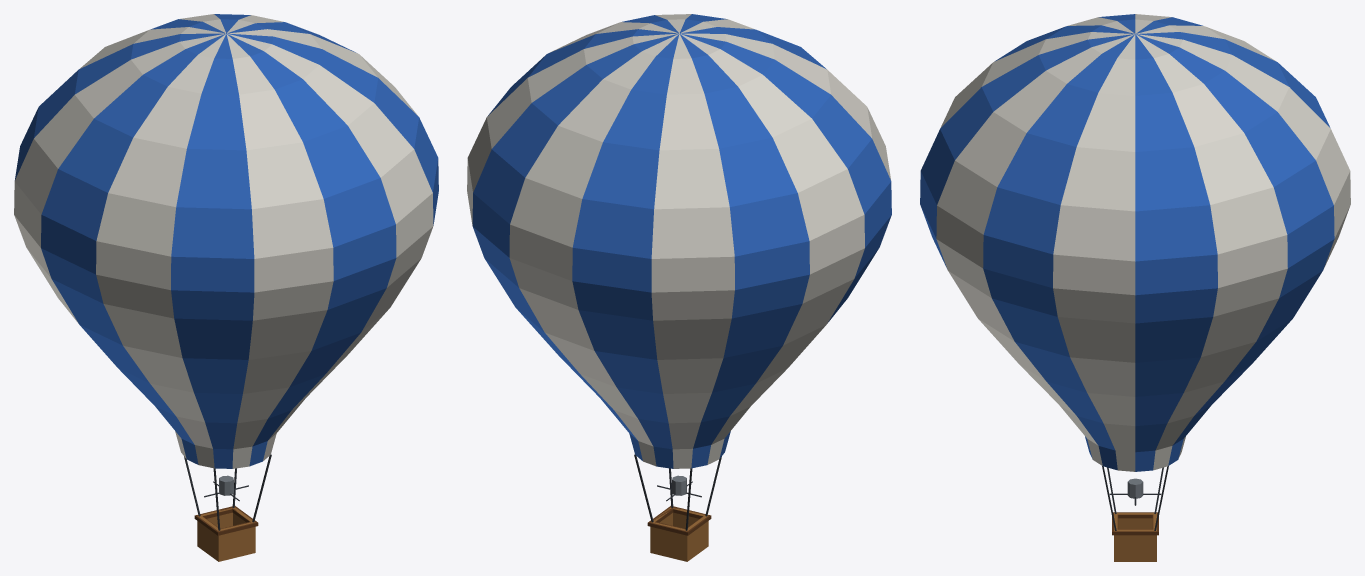
File: hotair-blue.glb
3 renders of one model, left to right at view 1: azimuth 30°, elevation 25°; view 2: azimuth 150°, elevation 25°; view 3: azimuth 270°, elevation 25°, orthographic.
Parts seen in each view (by area): view 1: hotair-blue; view 2: hotair-blue; view 3: hotair-blue.
Part boxes in pixels (<box>): hotair-blue: <box>14,14,438,561</box>; hotair-blue: <box>467,14,891,561</box>; hotair-blue: <box>920,14,1350,561</box>.
Size of the model in its own units: 14 by 18.6 by 14.
